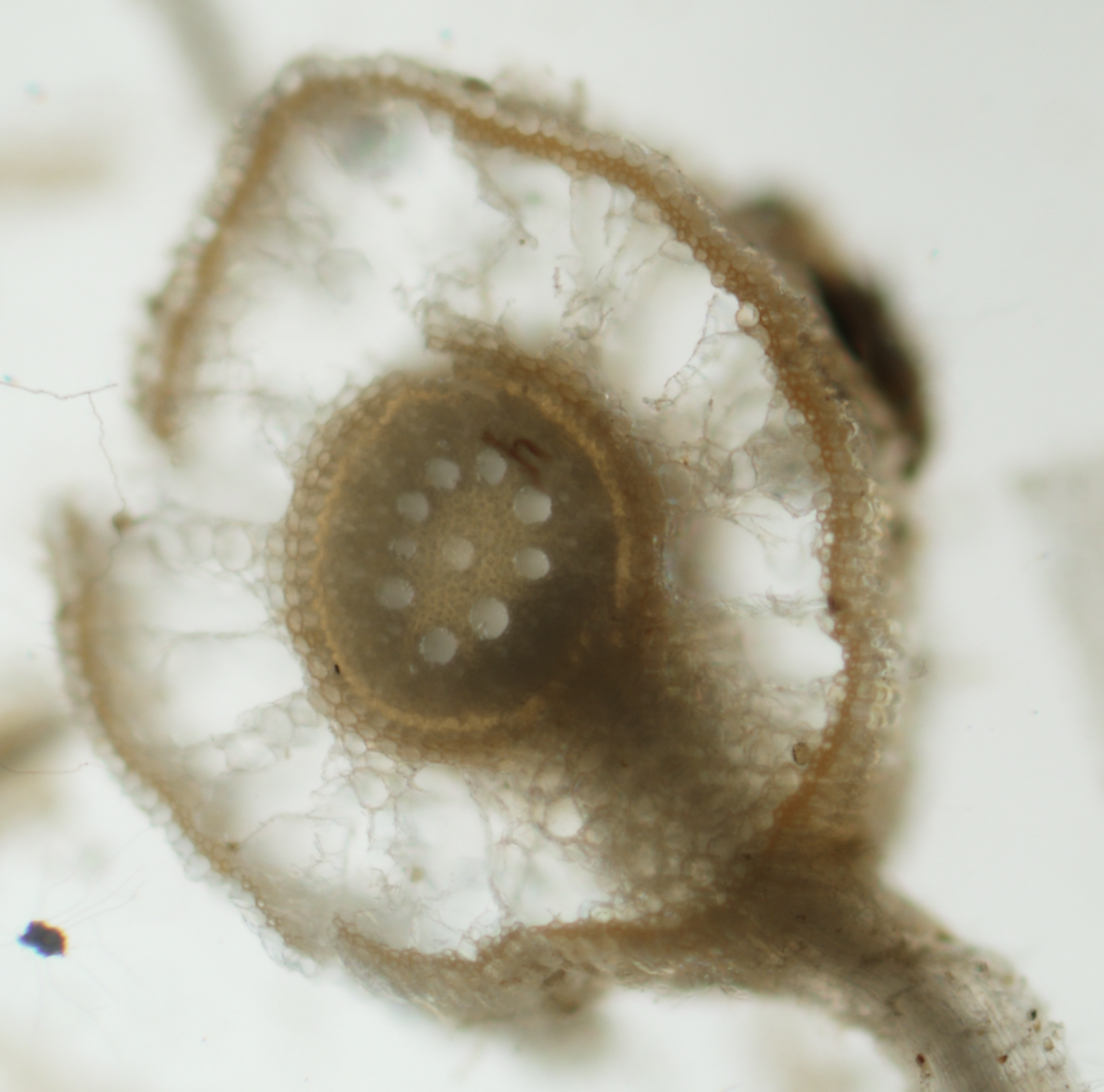lm: (468, 597, 508, 639), (512, 485, 552, 523), (373, 575, 414, 609), (420, 628, 458, 664), (512, 547, 550, 580), (443, 535, 475, 571), (475, 449, 506, 486), (396, 489, 429, 523), (423, 457, 459, 488), (389, 535, 420, 559)
